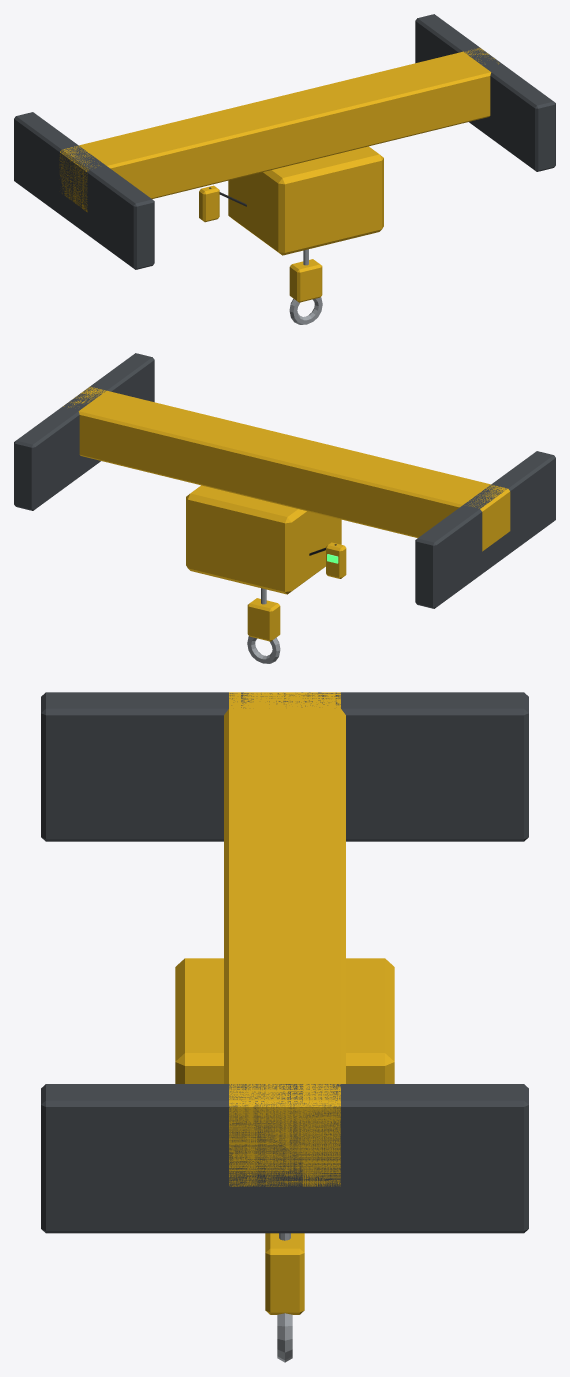
File: crane_hoist.glb
The picture shows the model from 3 angles, top to bottom: view 1: azimuth 30°, elevation 25°; view 2: azimuth 150°, elevation 25°; view 3: azimuth 270°, elevation 25°; orthographic projection. The views are drawn at different scales.
Parts seen in each view (by area): view 1: crane_hoist; view 2: crane_hoist; view 3: crane_hoist.
Boxes of the visible parts, bbox=[...] form: crane_hoist: bbox=[14, 14, 555, 324]; crane_hoist: bbox=[14, 353, 555, 663]; crane_hoist: bbox=[41, 692, 528, 1362].
Bounding box in the file's own units: 2 × 1 × 1.
